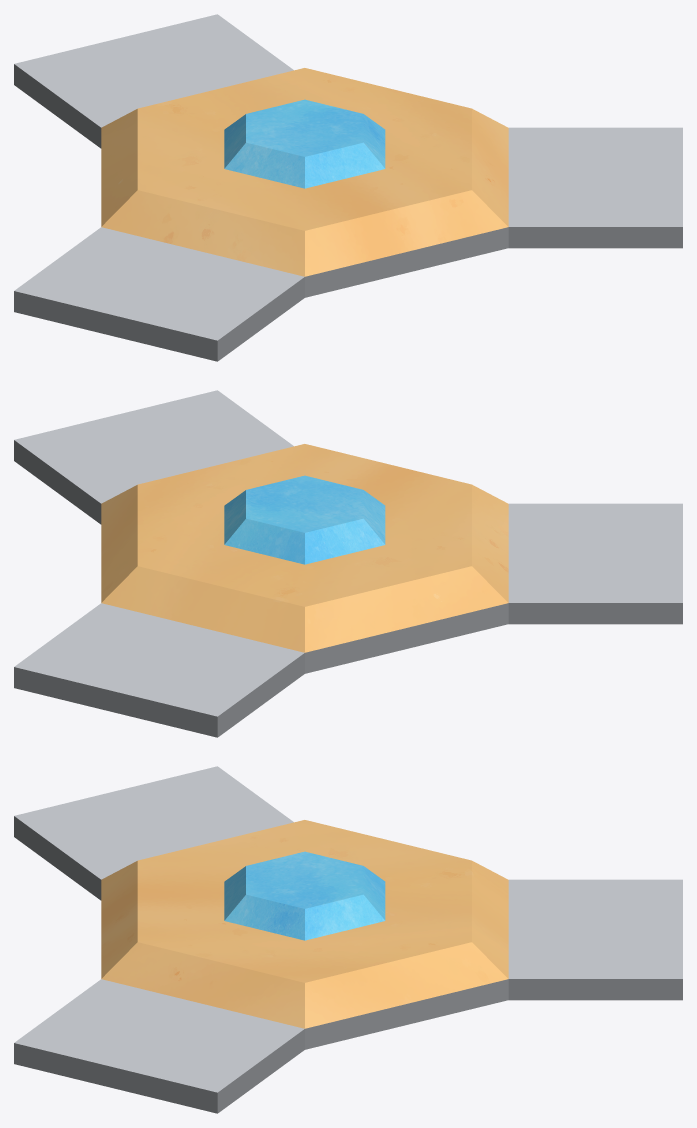
Rendered from battle_stage_5_platform.fbx.
3 renders of one model, top to bottom at view 1: azimuth 30°, elevation 25°; view 2: azimuth 150°, elevation 25°; view 3: azimuth 270°, elevation 25°, orthographic.
Parts seen in each view (by area): view 1: Cylinder.046; view 2: Cylinder.046; view 3: Cylinder.046.
Boxes of the visible parts, x1,y1,x2,y2 form: Cylinder.046: (14, 14, 682, 361); Cylinder.046: (14, 390, 682, 737); Cylinder.046: (14, 766, 682, 1113).
Size of the model in its own units: 9963 by 1000 by 8628.
